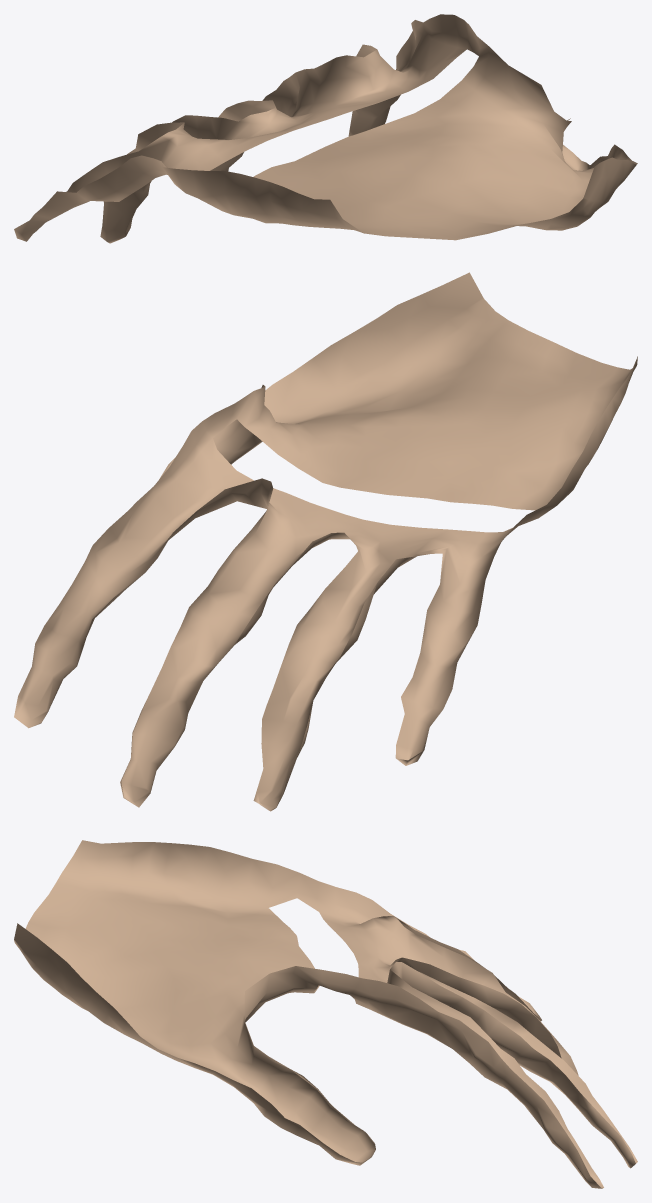
3 views of the same model, one above another, from view 1: azimuth 30°, elevation 25°; view 2: azimuth 150°, elevation 25°; view 3: azimuth 270°, elevation 25° (orthographic). The views are drawn at different scales.
Parts seen in each view (by area): view 1: 左侧掌腱膜; view 2: 左侧掌腱膜; view 3: 左侧掌腱膜.
Part boxes in pixels (x1=…): 左侧掌腱膜: x1=14, y1=14, x2=637, y2=243; 左侧掌腱膜: x1=14, y1=272, x2=637, y2=811; 左侧掌腱膜: x1=14, y1=840, x2=637, y2=1188.
Size of the model in its own units: 0.1611 by 0.1004 by 0.2299.
